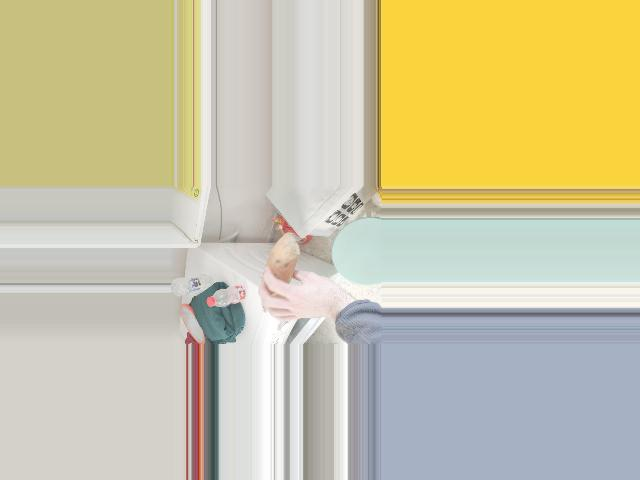sweet_potato: (260, 235, 297, 317)
